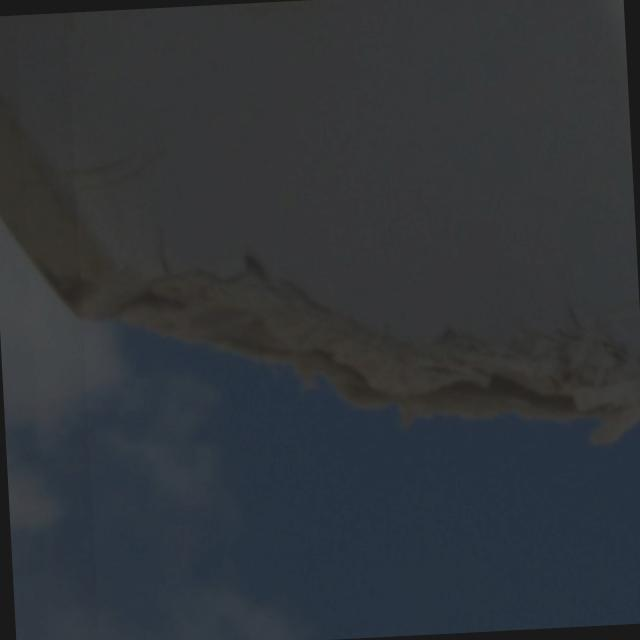crack: (79, 232, 640, 471)
